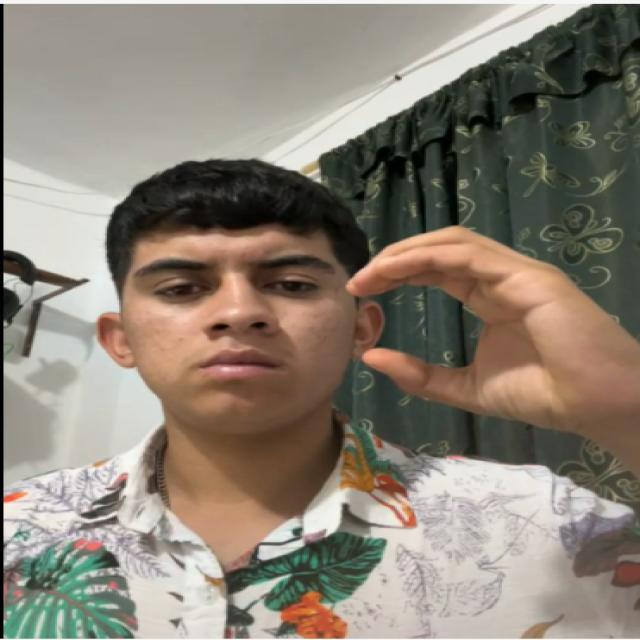C: (315, 204, 640, 436)
